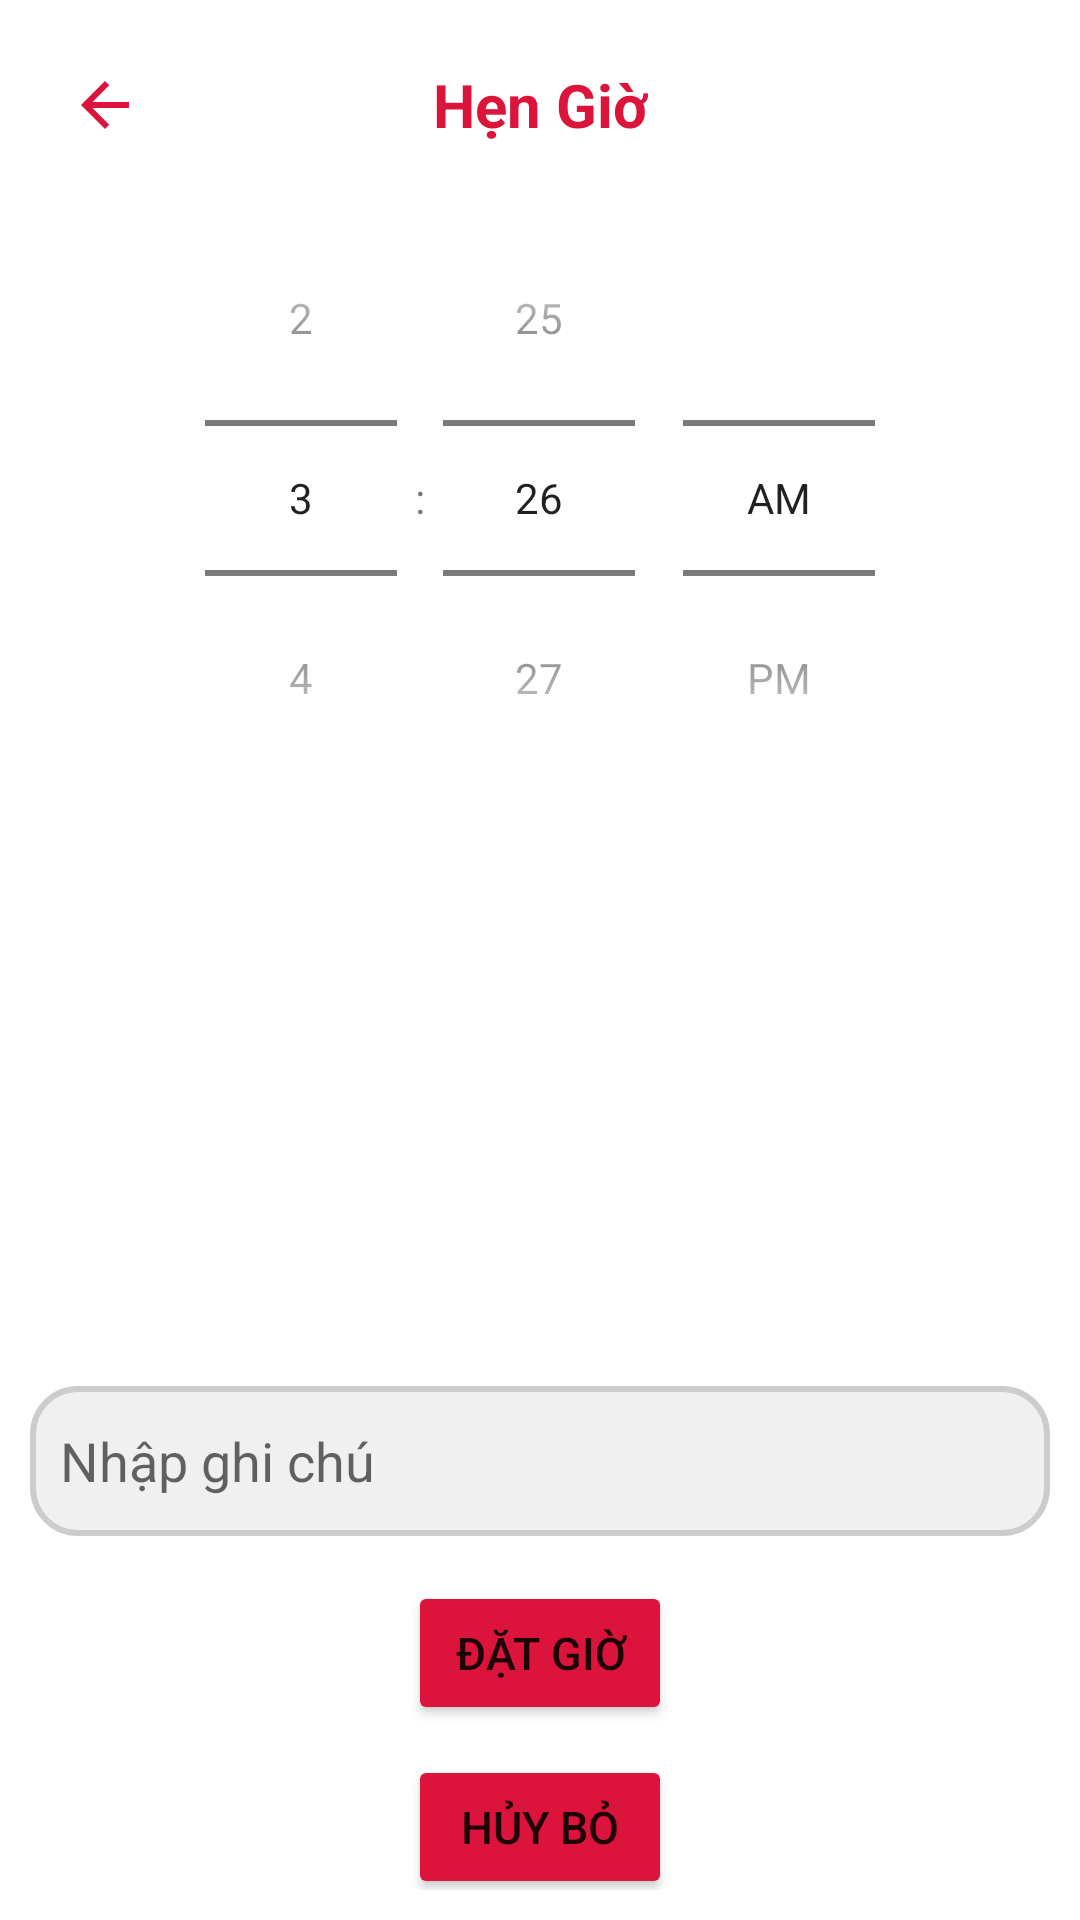

Named icons in this screenshot (1080px x 1920px) and their bounding boxes, (x1, y1, x2, y2):
Quay lại: (81, 81, 129, 129)
